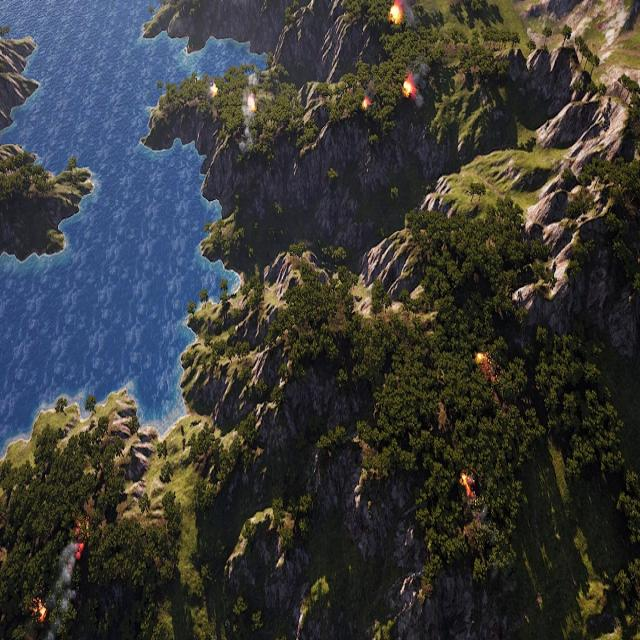fire: (476, 352, 496, 384), (74, 516, 90, 554), (460, 472, 474, 497), (32, 601, 46, 624), (390, 2, 401, 21), (402, 78, 413, 96), (249, 95, 257, 111), (362, 99, 369, 110), (211, 86, 217, 98)
smoke: (43, 539, 81, 638), (236, 75, 256, 156), (408, 61, 431, 107), (398, 0, 418, 26), (364, 86, 374, 106)
